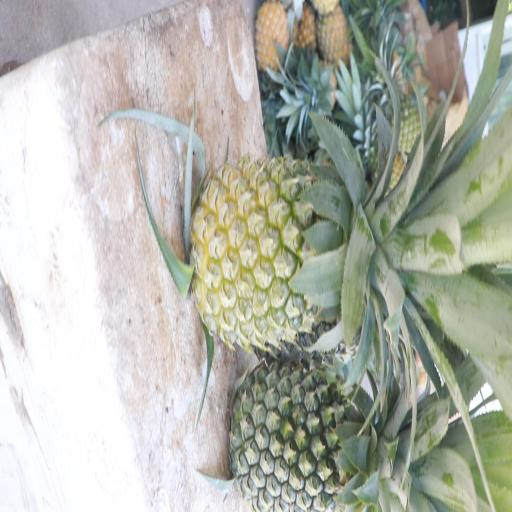Pineapple - v8 v1: (192, 149, 392, 347), (251, 0, 290, 78), (314, 0, 353, 70)
